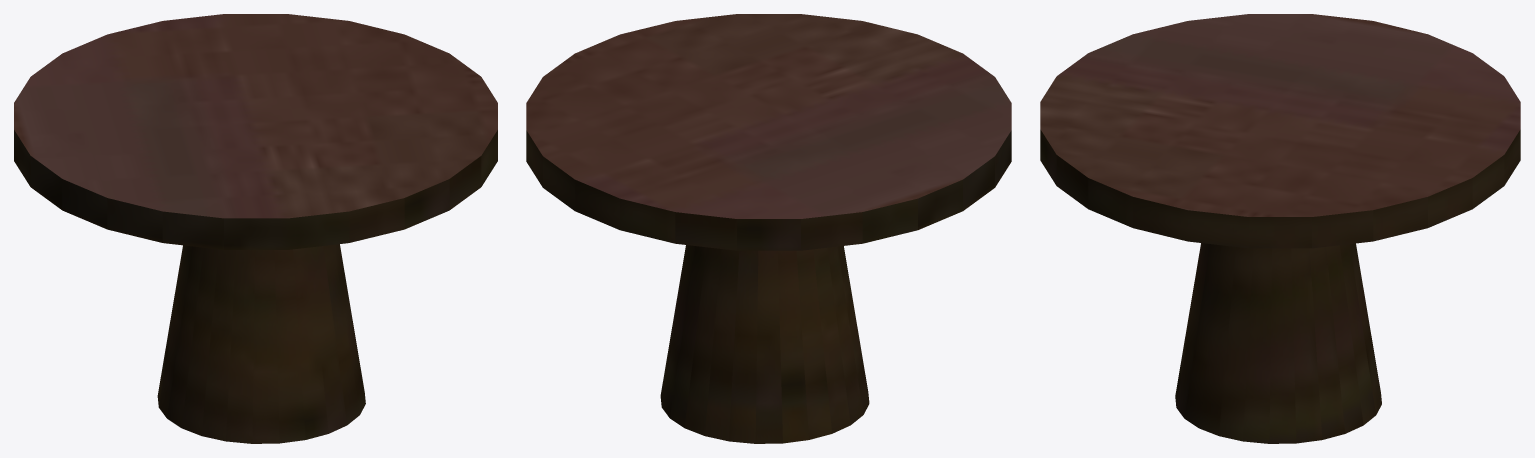
3 renders of one model, left to right at view 1: azimuth 30°, elevation 25°; view 2: azimuth 150°, elevation 25°; view 3: azimuth 270°, elevation 25°, orthographic.
Parts seen in each view (by area): view 1: mesh2_mesh2-geometry, mesh3_mesh3-geometry, mesh1_mesh1-geometry; view 2: mesh2_mesh2-geometry, mesh3_mesh3-geometry, mesh1_mesh1-geometry; view 3: mesh2_mesh2-geometry, mesh3_mesh3-geometry, mesh1_mesh1-geometry.
Boxes of the visible parts, bbox=[...] form: mesh2_mesh2-geometry: bbox=[14, 14, 497, 218]; mesh3_mesh3-geometry: bbox=[157, 244, 365, 443]; mesh1_mesh1-geometry: bbox=[14, 130, 497, 249]; mesh2_mesh2-geometry: bbox=[526, 14, 1011, 218]; mesh3_mesh3-geometry: bbox=[660, 245, 869, 443]; mesh1_mesh1-geometry: bbox=[526, 130, 1011, 250]; mesh2_mesh2-geometry: bbox=[1040, 14, 1520, 216]; mesh3_mesh3-geometry: bbox=[1175, 243, 1381, 443]; mesh1_mesh1-geometry: bbox=[1040, 129, 1520, 248].
Bounding box in the file's own units: 0.6428 × 0.4168 × 0.6428.
Materials: 4 (2 with a texture image).
